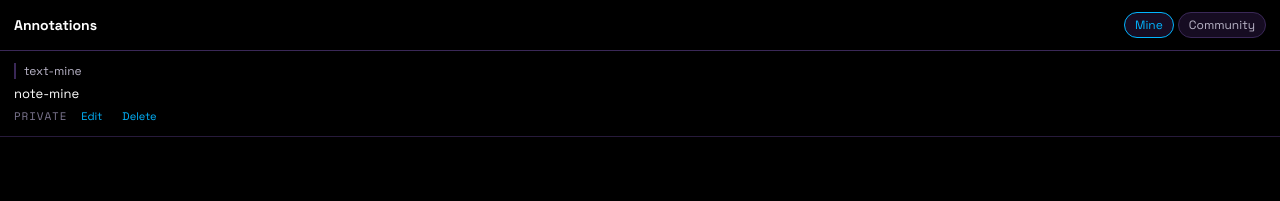
it: AnnotationPanel › shows my annotations under Mine and community ones under Community
Check: the list item with test id "annotation-mine" is shown, box [0,51,1279,137]
Step 1. Click the tab "Community" → (1222, 25), box [1178,12,1266,38]
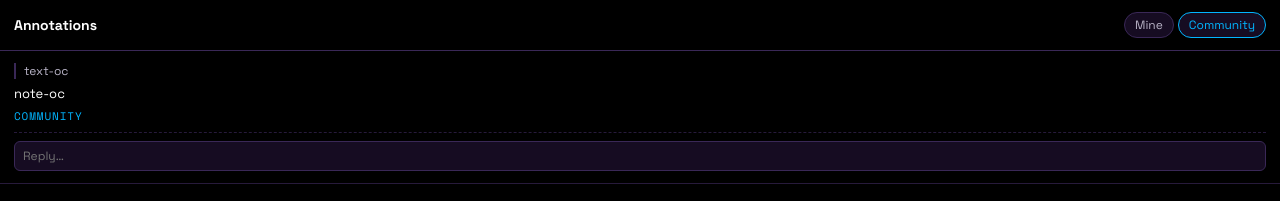
Check: the list item with test id "annotation-oc" is shown
